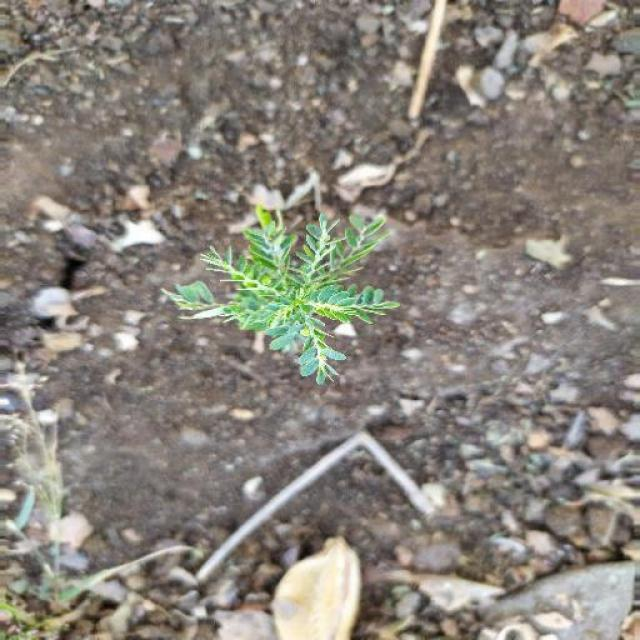weed: (170, 201, 422, 391)
